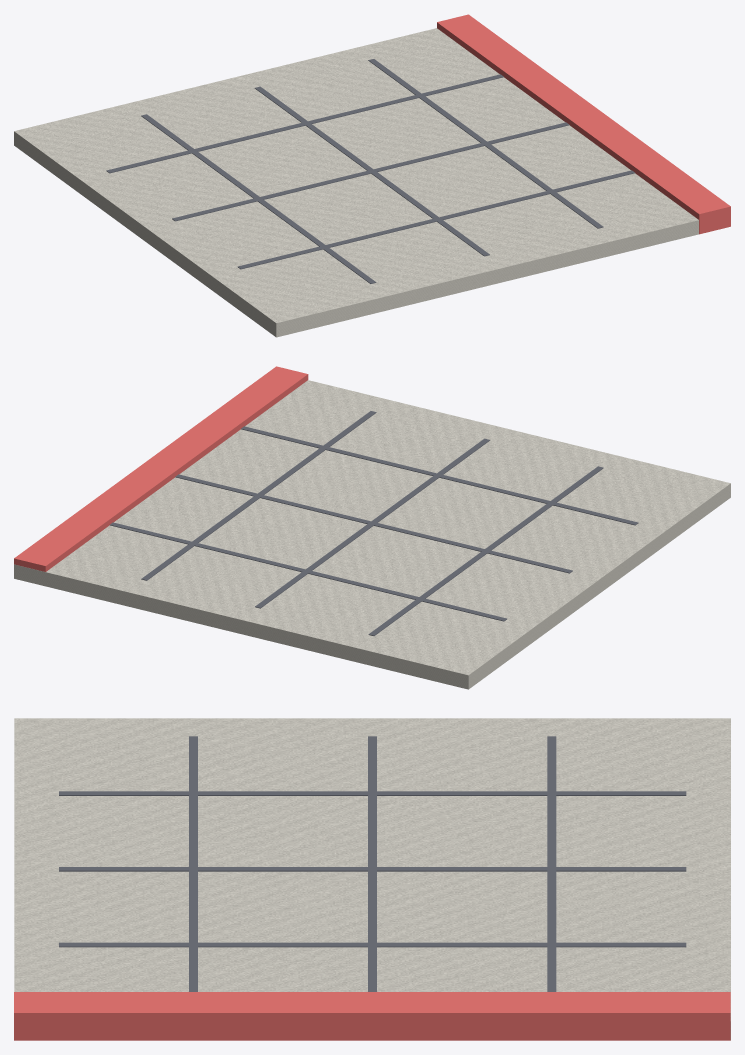
The model's file is theme-park-rides-and-coasters-theme-park-rides-and-coa-8cd6be2a__28698.glb.
3 views of the same model, one above another, from view 1: azimuth 30°, elevation 25°; view 2: azimuth 150°, elevation 25°; view 3: azimuth 270°, elevation 25° (orthographic). The views are drawn at different scales.
Parts seen in each view (by area): view 1: theme-park-rides-and-coasters-path-tile-t; view 2: theme-park-rides-and-coasters-path-tile-t; view 3: theme-park-rides-and-coasters-path-tile-t.
Boxes of the visible parts, <box> form: theme-park-rides-and-coasters-path-tile-t: <box>14,14,730,337</box>; theme-park-rides-and-coasters-path-tile-t: <box>14,366,730,689</box>; theme-park-rides-and-coasters-path-tile-t: <box>14,718,730,1040</box>.
Size of the model in its own units: 4 by 0.17 by 4.
Materials: 3 (1 with a texture image).
